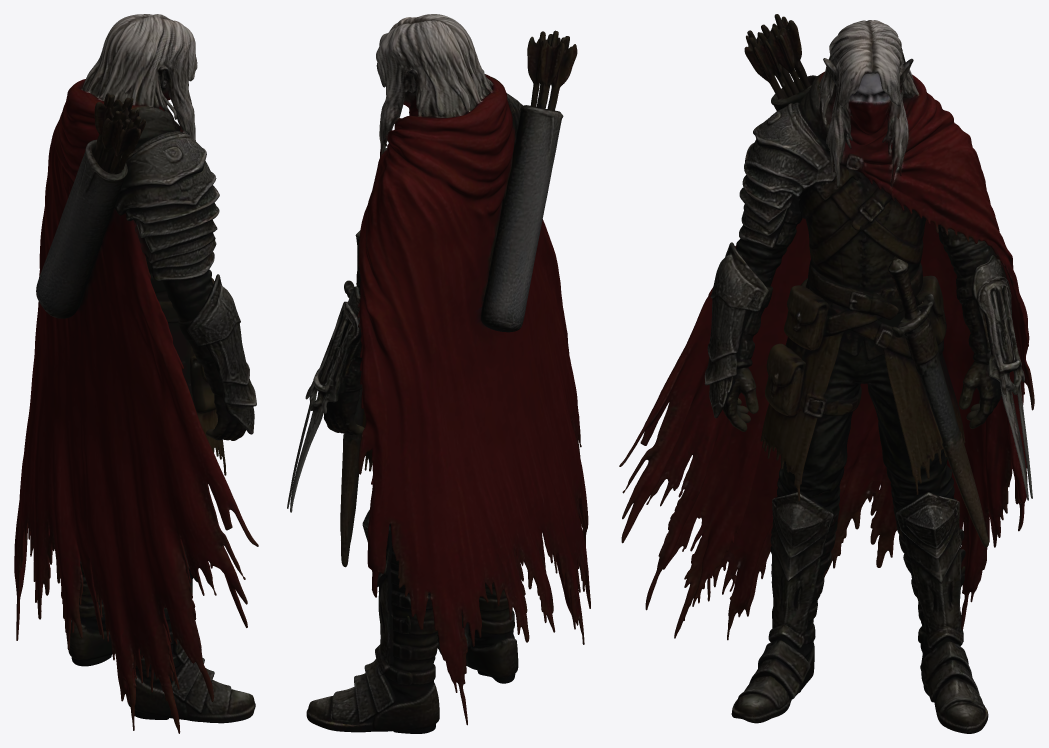
Rendered from monstruo.fbx.
3 renders of one model, left to right at view 1: azimuth 30°, elevation 25°; view 2: azimuth 150°, elevation 25°; view 3: azimuth 270°, elevation 25°, orthographic. The views are drawn at different scales.
Parts seen in each view (by area): view 1: tripo_node_16dc609f-36ba-4761-9997-6e967987980e; view 2: tripo_node_16dc609f-36ba-4761-9997-6e967987980e; view 3: tripo_node_16dc609f-36ba-4761-9997-6e967987980e.
Part boxes in pixels (x1=…): tripo_node_16dc609f-36ba-4761-9997-6e967987980e: x1=14, y1=14, x2=258, y2=733; tripo_node_16dc609f-36ba-4761-9997-6e967987980e: x1=287, y1=14, x2=590, y2=733; tripo_node_16dc609f-36ba-4761-9997-6e967987980e: x1=619, y1=14, x2=1034, y2=733.
Bounding box in the file's own units: 63.72 × 236 × 131.
Materials: 1 (1 with a texture image).
